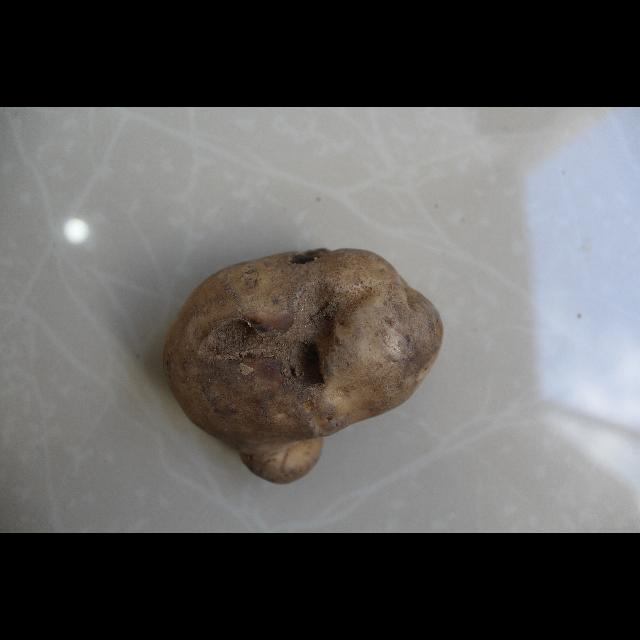Damaged potato: (158, 247, 442, 488)
